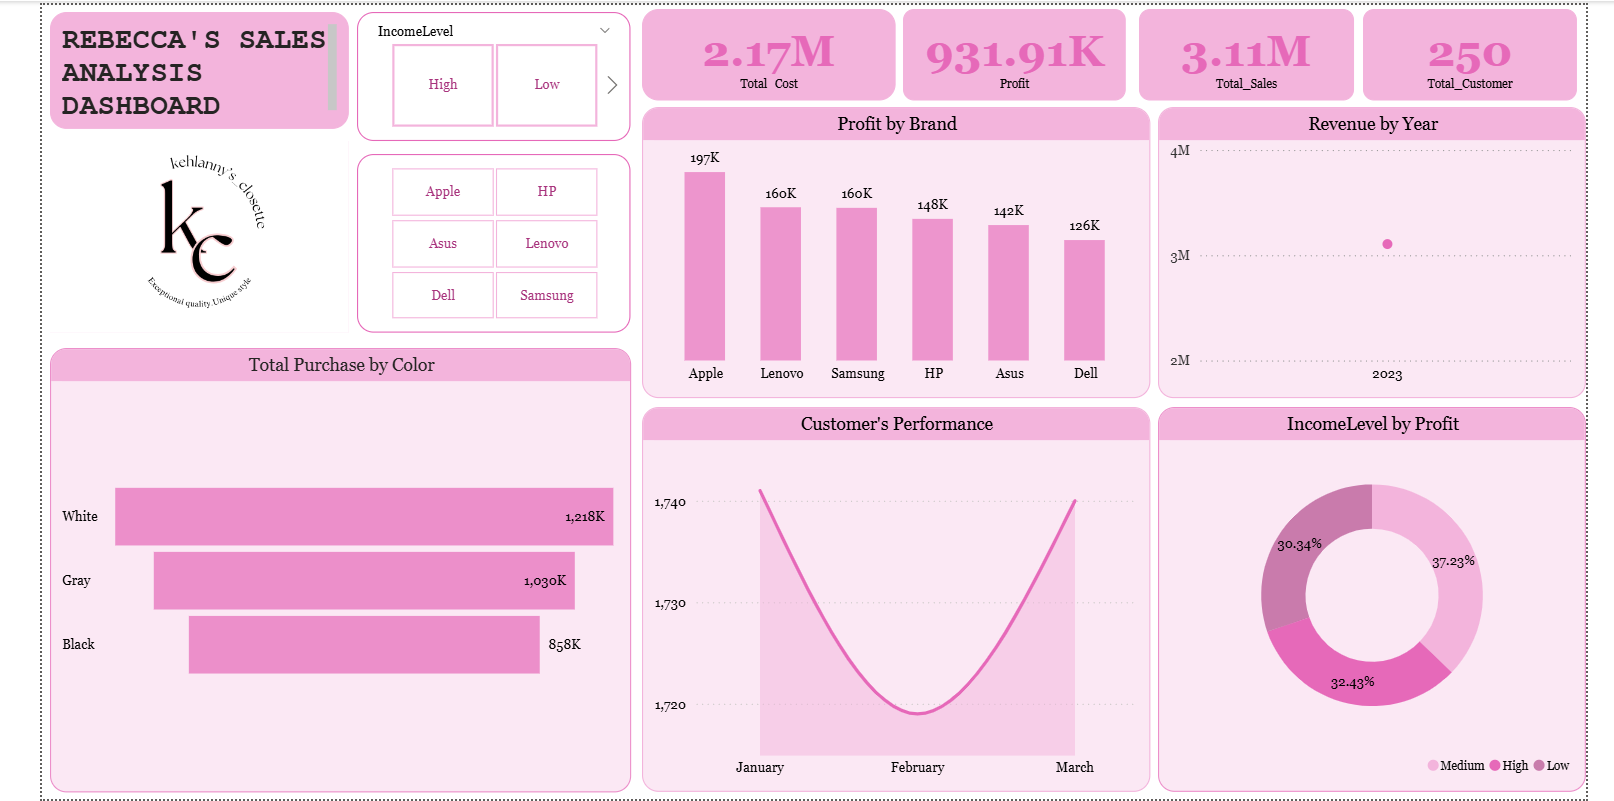

Layout of this report page (visuals, bound fields, positions):
{"tool":"powerbi","page":{"name":"Page 2","canvas":[1400,720],"ordinal":1},"visuals":[{"type":"clusteredColumnChart","fields":{"Category":["Products.Brand"],"Y":["select","Sales.Profit"]},"box":[544.1,92.5,460.7,263.9],"z":0},{"type":"funnel","title":"Total Purchase by Color","fields":{"Category":["Products.Color"],"Y":["select","Sales.Total_Sales"]},"box":[7.3,311,526.9,402.6],"z":1000},{"type":"areaChart","title":"Revenue by Year","fields":{"Category":["Sales.SaleDate.Variation.Date Hierarchy.Year"],"Y":["Sales.Total_Sales"]},"box":[1012,92.5,388.1,263.9],"z":2000},{"type":"areaChart","title":"Customer''s Performance","fields":{"Category":["Sales.SaleDate.Variation.Date Hierarchy.Month"],"Y":["CountNonNull(Sales.CustomerID)"]},"box":[544.1,364.5,460.7,349.1],"z":3000},{"type":"card","fields":{"Values":["select","Sales.Profit"]},"box":[780.8,3.6,202.2,83.4],"z":3001},{"type":"card","fields":{"Values":["Sales.Total_Cost"]},"box":[544.1,3.6,230.3,83.4],"z":3002},{"type":"donutChart","title":"IncomeLevel by Profit","fields":{"Category":["Customers.IncomeLevel"],"Y":["Sales.Profit"]},"box":[1012,364.5,388.1,349.1],"z":3003},{"type":"card","fields":{"Values":["Sales.Total_Sales"]},"box":[994.8,3.6,195,83.4],"z":3004},{"type":"card","fields":{"Values":["Sales.Total_Customer"]},"box":[1197.9,3.6,194.1,83.4],"z":3005},{"type":"textbox","box":[7.3,6.3,271.1,106.1],"z":3006},{"type":"slicer","fields":{"Values":["Products.Brand"]},"box":[285.6,135.1,248.5,162.3],"z":3007},{"type":"slicer","fields":{"Values":["Customers.IncomeLevel"]},"box":[285.6,6.3,248.5,117],"z":3008},{"type":"image","box":[7.3,123.3,271.1,174.1],"z":3009}]}

Visuals, with their boxes in screenshot pixels (x1, y1, x2, y2):
clusteredColumnChart - Products.Brand x select: box=[640, 106, 1147, 396]
"Total Purchase by Color" funnel: box=[50, 346, 629, 789]
"Revenue by Year" areaChart: box=[1155, 106, 1582, 396]
"Customer''s Performance" areaChart: box=[640, 405, 1147, 789]
card - select x Sales.Profit: box=[901, 8, 1123, 100]
card - Sales.Total_Cost: box=[640, 8, 894, 100]
"IncomeLevel by Profit" donutChart: box=[1155, 405, 1582, 789]
card - Sales.Total_Sales: box=[1136, 8, 1350, 100]
card - Sales.Total_Customer: box=[1359, 8, 1573, 100]
textbox: box=[50, 11, 348, 128]
slicer - Products.Brand: box=[356, 153, 629, 331]
slicer - Customers.IncomeLevel: box=[356, 11, 629, 140]
image: box=[50, 140, 348, 331]
